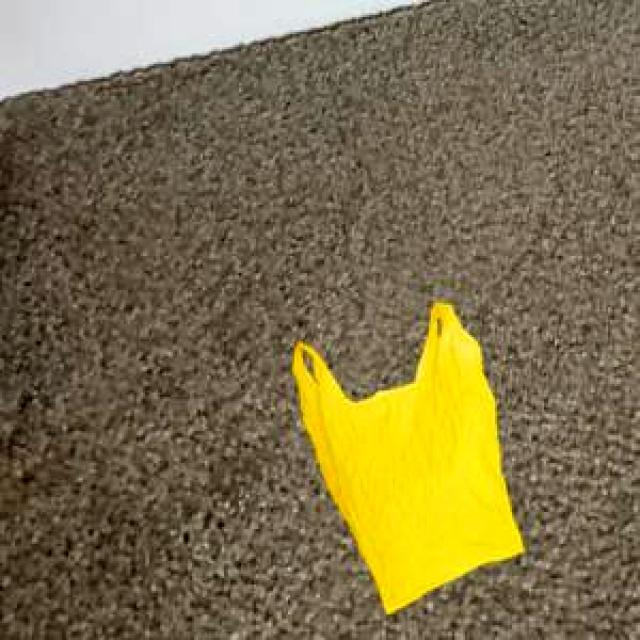Plastic_Bag: (290, 299, 520, 612)
